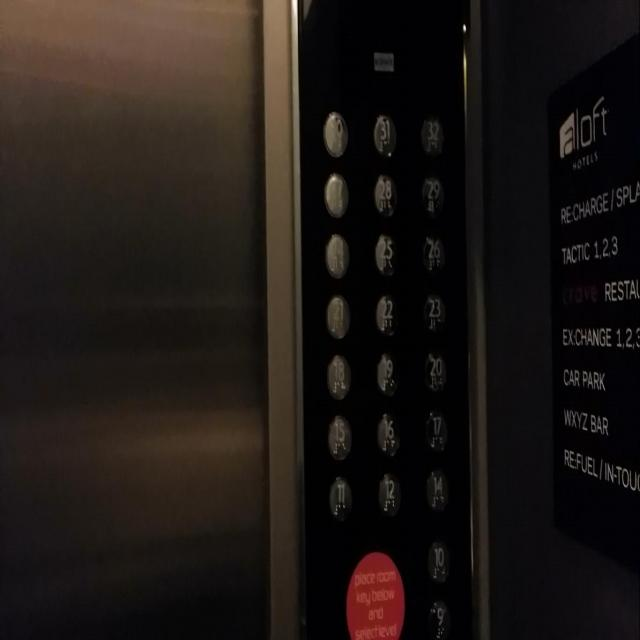10: (425, 540, 450, 583)
11: (328, 478, 352, 520)
12: (378, 473, 401, 515)
14: (424, 468, 448, 514)
15: (327, 416, 351, 458)
16: (376, 411, 398, 455)
17: (424, 410, 447, 452)
18: (326, 354, 352, 398)
19: (376, 352, 400, 394)
20: (425, 352, 446, 392)
21: (326, 296, 350, 338)
22: (374, 292, 397, 334)
23: (422, 291, 445, 331)
25: (373, 233, 398, 275)
26: (421, 234, 446, 275)
28: (373, 173, 396, 215)
29: (417, 173, 446, 219)
31: (372, 112, 397, 158)
32: (419, 112, 444, 156)
9: (426, 598, 452, 639)
blur: (323, 109, 349, 158), (324, 172, 350, 218), (325, 231, 350, 277), (373, 50, 394, 72)
text: (344, 548, 406, 639)
